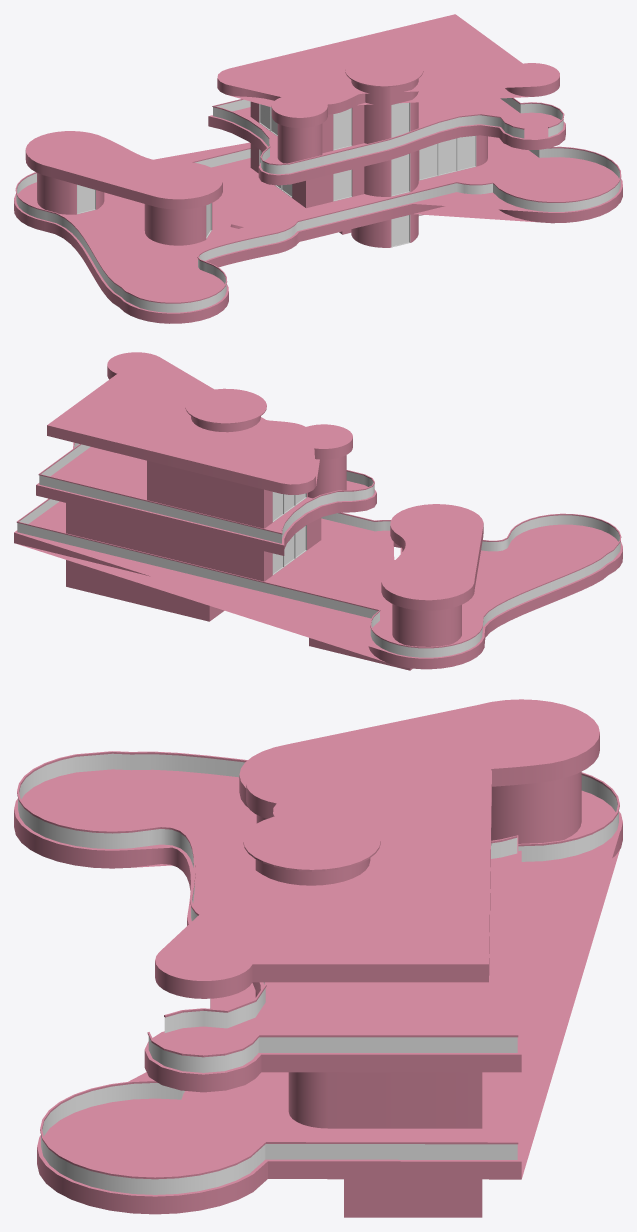
Rendered from OU_AR_BarbieHouse_01_D.fbx.
3 views of the same model, one above another, from view 1: azimuth 30°, elevation 25°; view 2: azimuth 150°, elevation 25°; view 3: azimuth 270°, elevation 25° (orthographic). The views are drawn at different scales.
Visible parts, largest first — view 1: OU_AR_BarbieHouse_01_D, OU_AR_BarbieHouse_01_D.002, OU_AR_BarbieHouse_01_D.001; view 2: OU_AR_BarbieHouse_01_D, OU_AR_BarbieHouse_01_D.002, OU_AR_BarbieHouse_01_D.001; view 3: OU_AR_BarbieHouse_01_D, OU_AR_BarbieHouse_01_D.002, OU_AR_BarbieHouse_01_D.001.
Part boxes in pixels (x1,y1,x2,y2): OU_AR_BarbieHouse_01_D: [25, 14, 565, 247]; OU_AR_BarbieHouse_01_D.002: [14, 136, 622, 323]; OU_AR_BarbieHouse_01_D.001: [16, 98, 620, 312]; OU_AR_BarbieHouse_01_D: [36, 352, 483, 670]; OU_AR_BarbieHouse_01_D.002: [14, 442, 622, 669]; OU_AR_BarbieHouse_01_D.001: [17, 443, 620, 657]; OU_AR_BarbieHouse_01_D: [144, 699, 599, 1217]; OU_AR_BarbieHouse_01_D.002: [14, 751, 622, 1214]; OU_AR_BarbieHouse_01_D.001: [18, 753, 618, 1194].
Bounding box in the file's own units: 5162 × 1610 × 3098.
